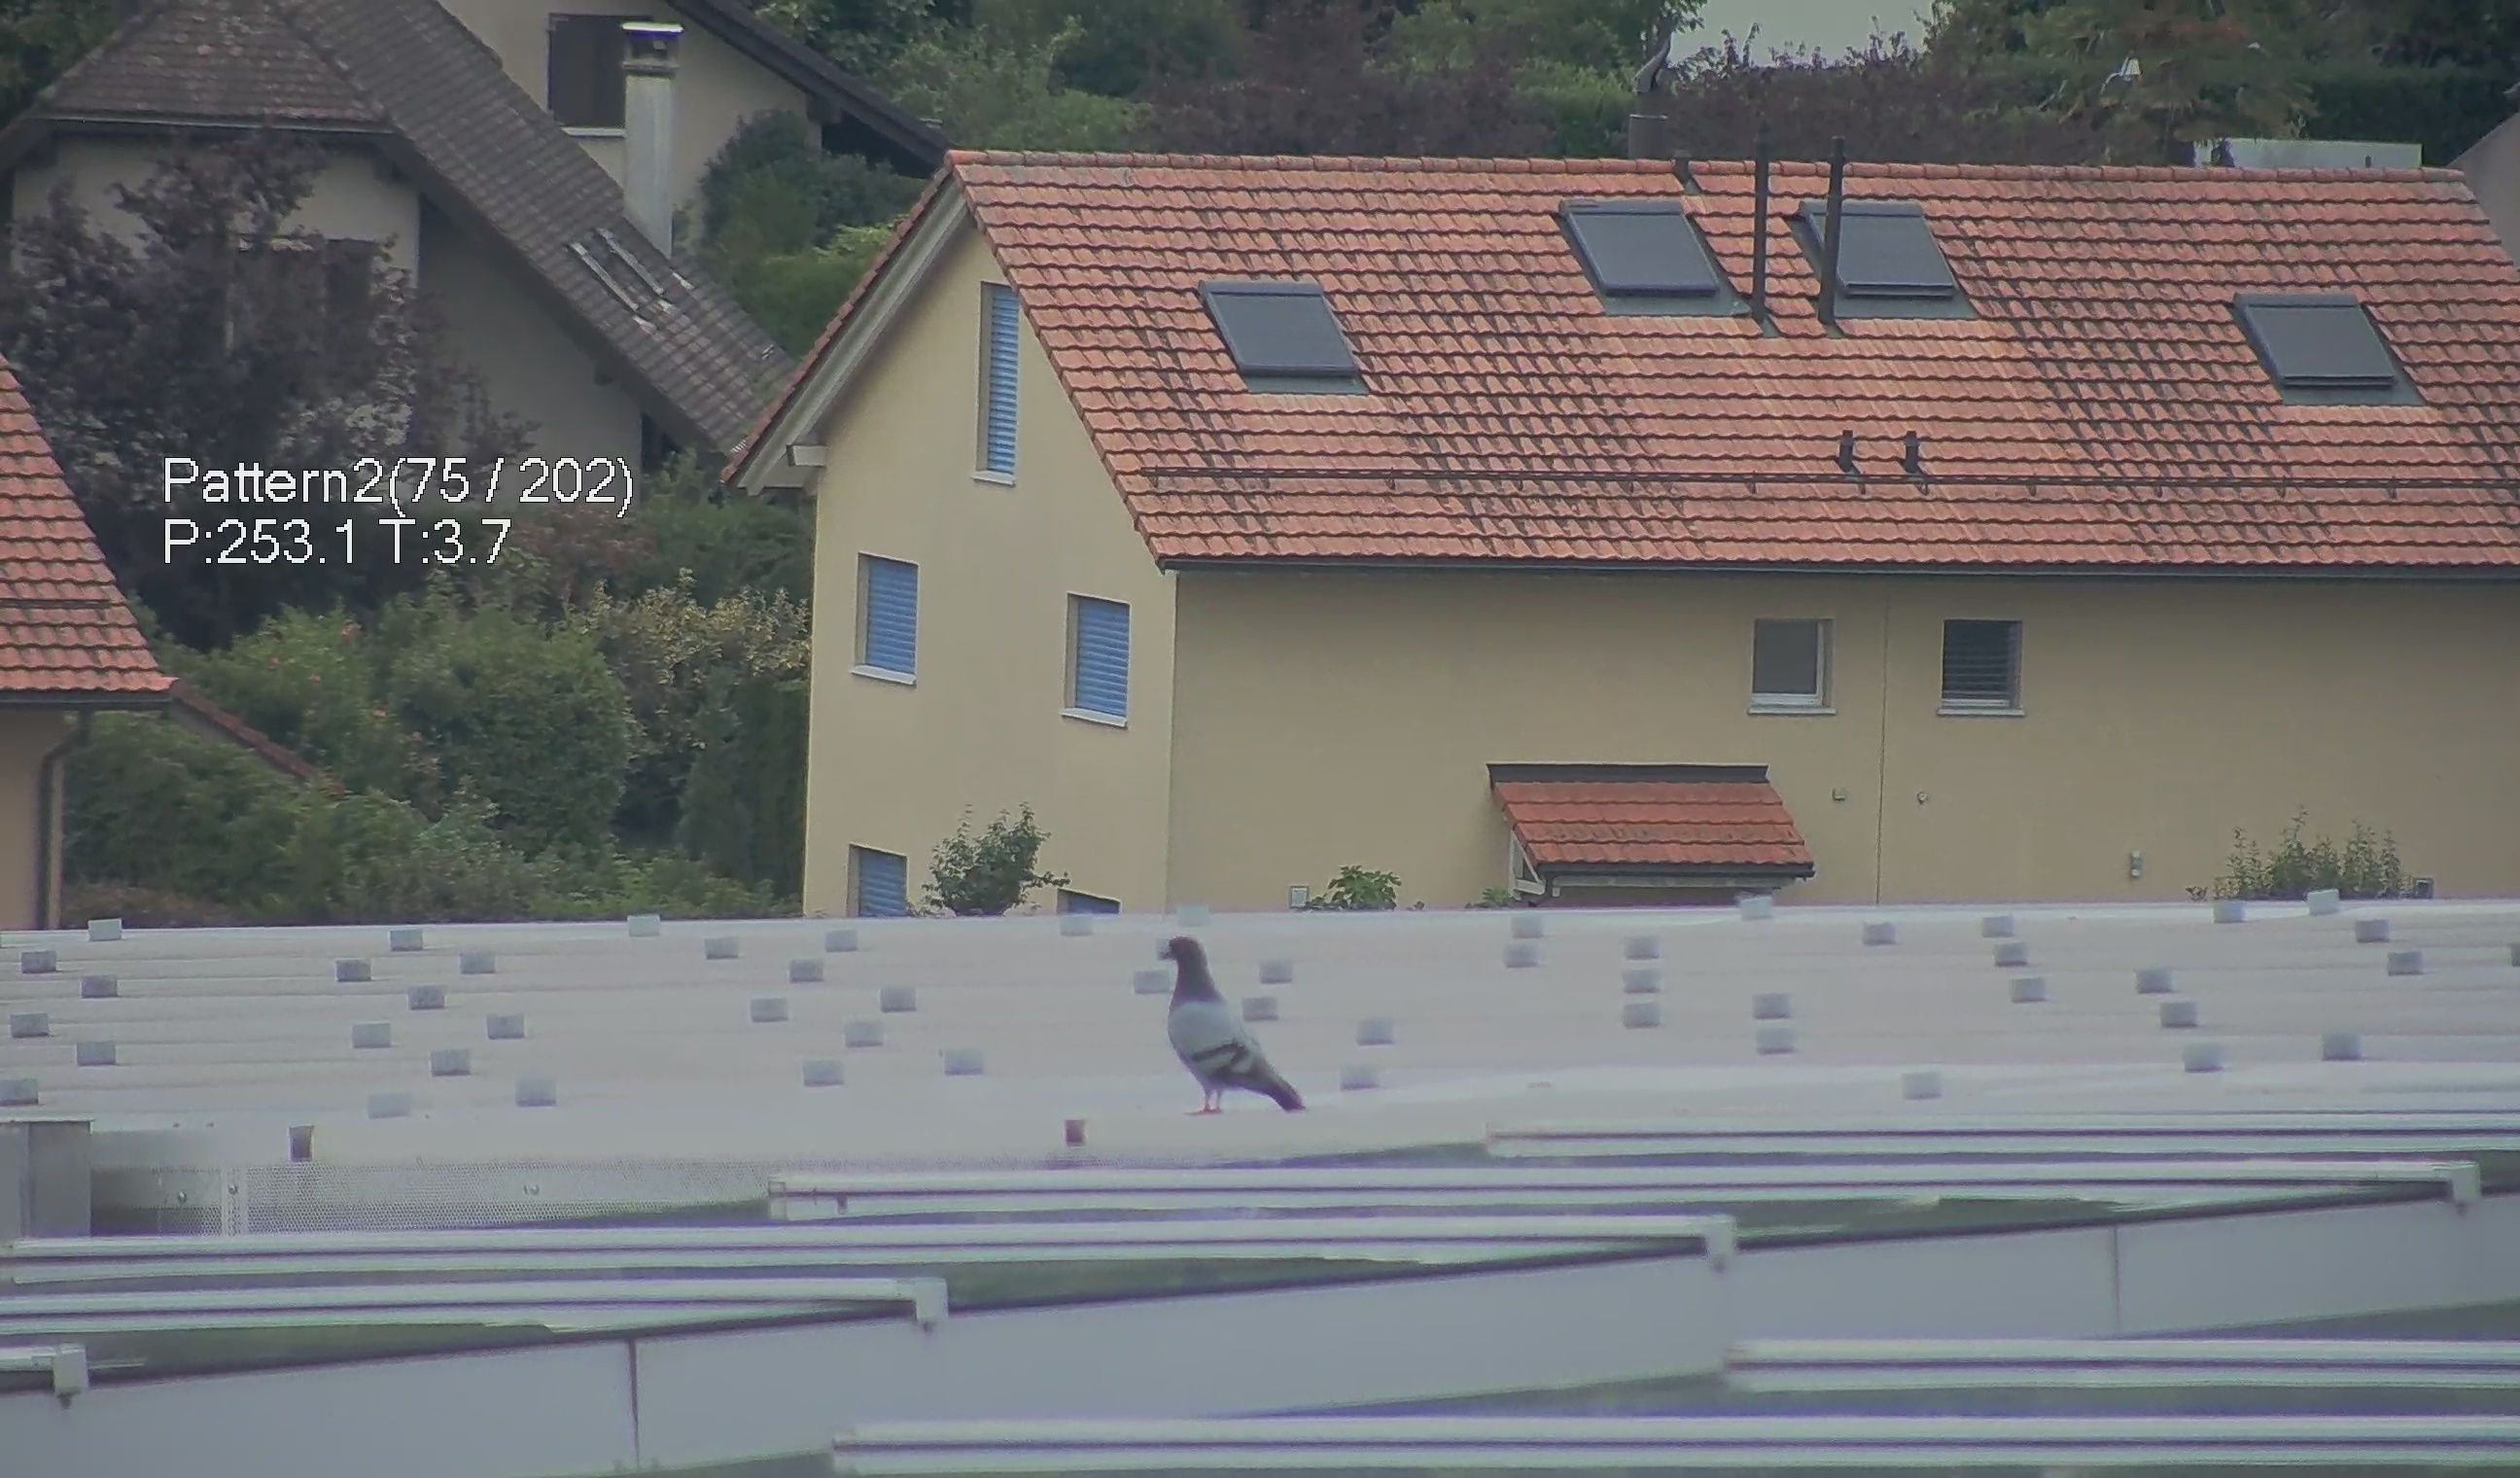Pigeon: (1143, 927, 1314, 1133)
